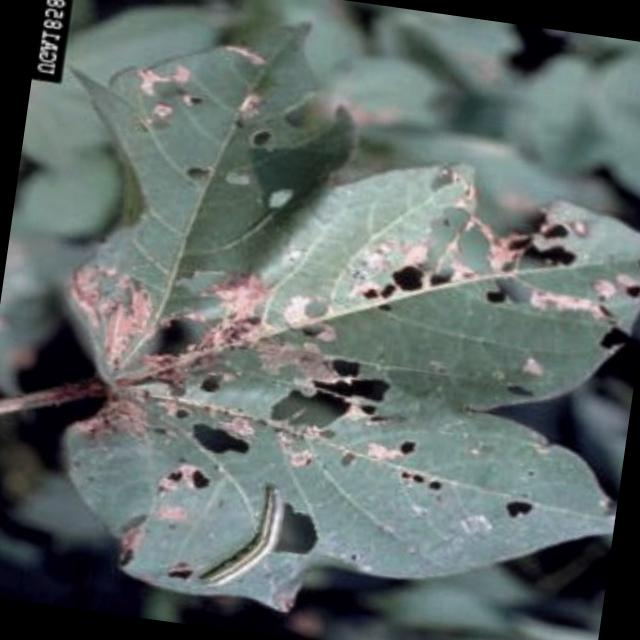Beet armyworm: (188, 454, 304, 618)
